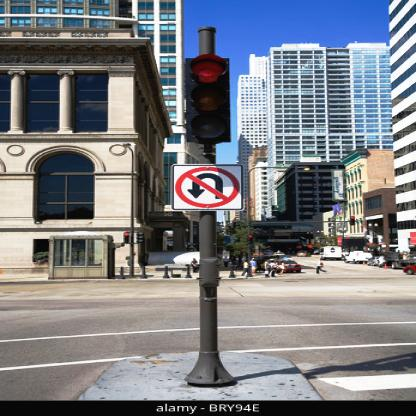No U-turn: (173, 164, 250, 212)
